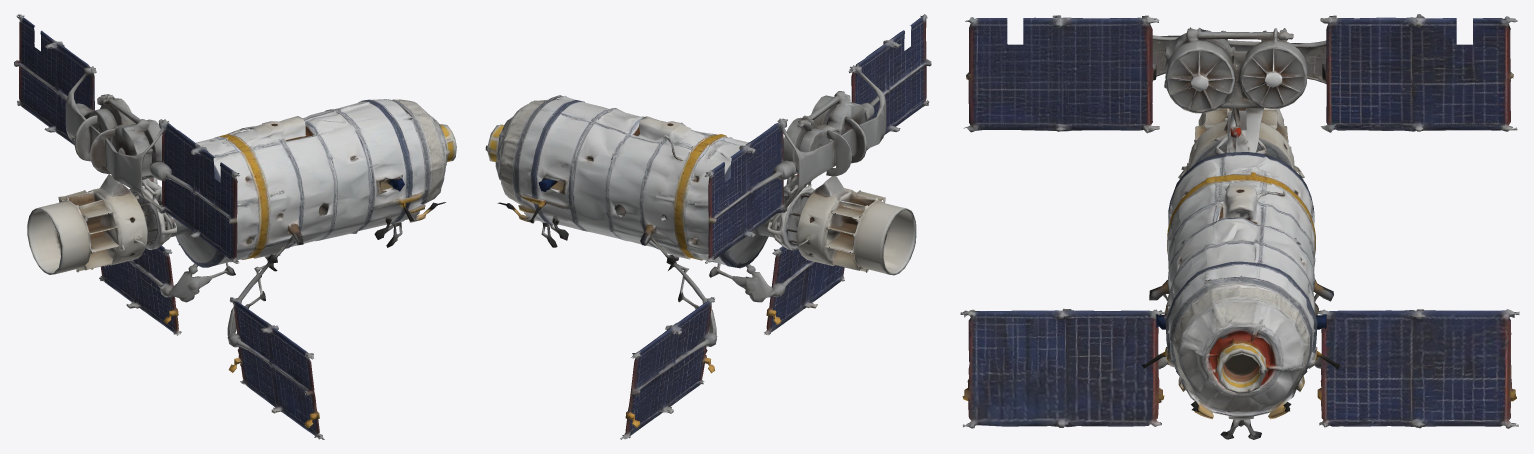
The model's file is cygnus.glb.
The picture shows the model from 3 angles, left to right: view 1: azimuth 30°, elevation 25°; view 2: azimuth 150°, elevation 25°; view 3: azimuth 270°, elevation 25°; orthographic projection. The views are drawn at different scales.
Parts seen in each view (by area): view 1: tripo_node_ce78cca7-ae66-4028-bda2-778b861f9e17; view 2: tripo_node_ce78cca7-ae66-4028-bda2-778b861f9e17; view 3: tripo_node_ce78cca7-ae66-4028-bda2-778b861f9e17.
Part boxes in pixels (bbox=[...]): tripo_node_ce78cca7-ae66-4028-bda2-778b861f9e17: bbox=[14, 14, 456, 439]; tripo_node_ce78cca7-ae66-4028-bda2-778b861f9e17: bbox=[485, 14, 931, 439]; tripo_node_ce78cca7-ae66-4028-bda2-778b861f9e17: bbox=[960, 14, 1519, 439].
Bounding box in the file's own units: 1 × 0.6805 × 0.9545.
Materials: 1 (1 with a texture image).
